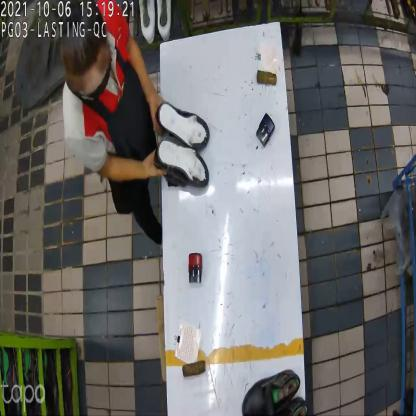shoes: (155, 110, 209, 190), (243, 362, 308, 416)
stamp: (257, 111, 275, 149), (188, 253, 206, 283)
